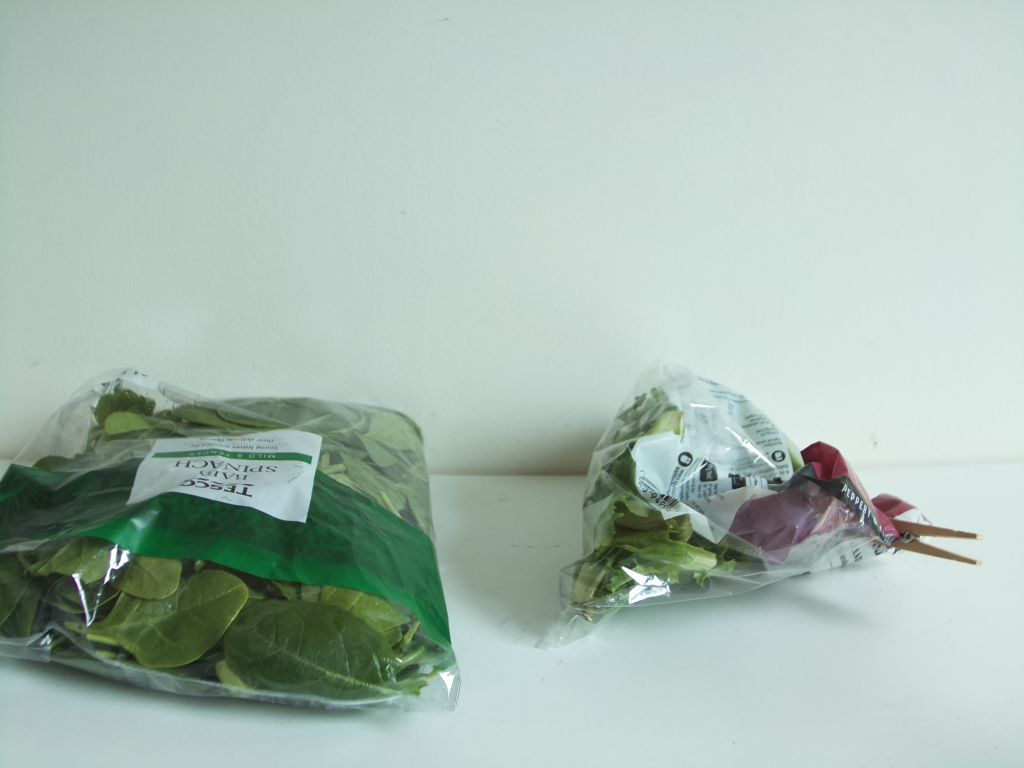salad: (1, 380, 456, 714), (563, 356, 889, 638)
